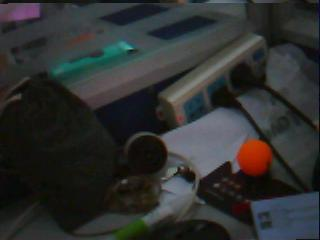oball: (236, 140, 272, 175)
